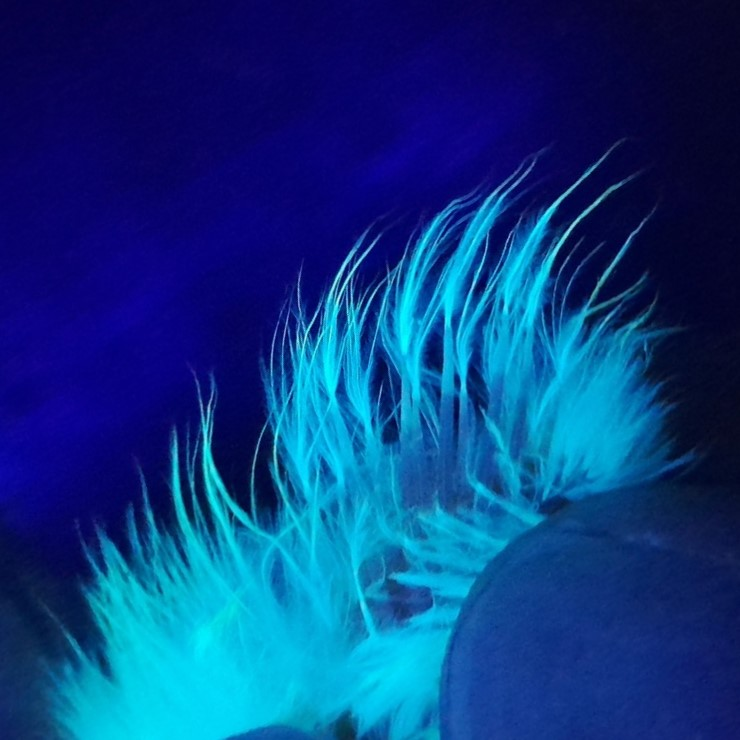male: (283, 298, 586, 626)
